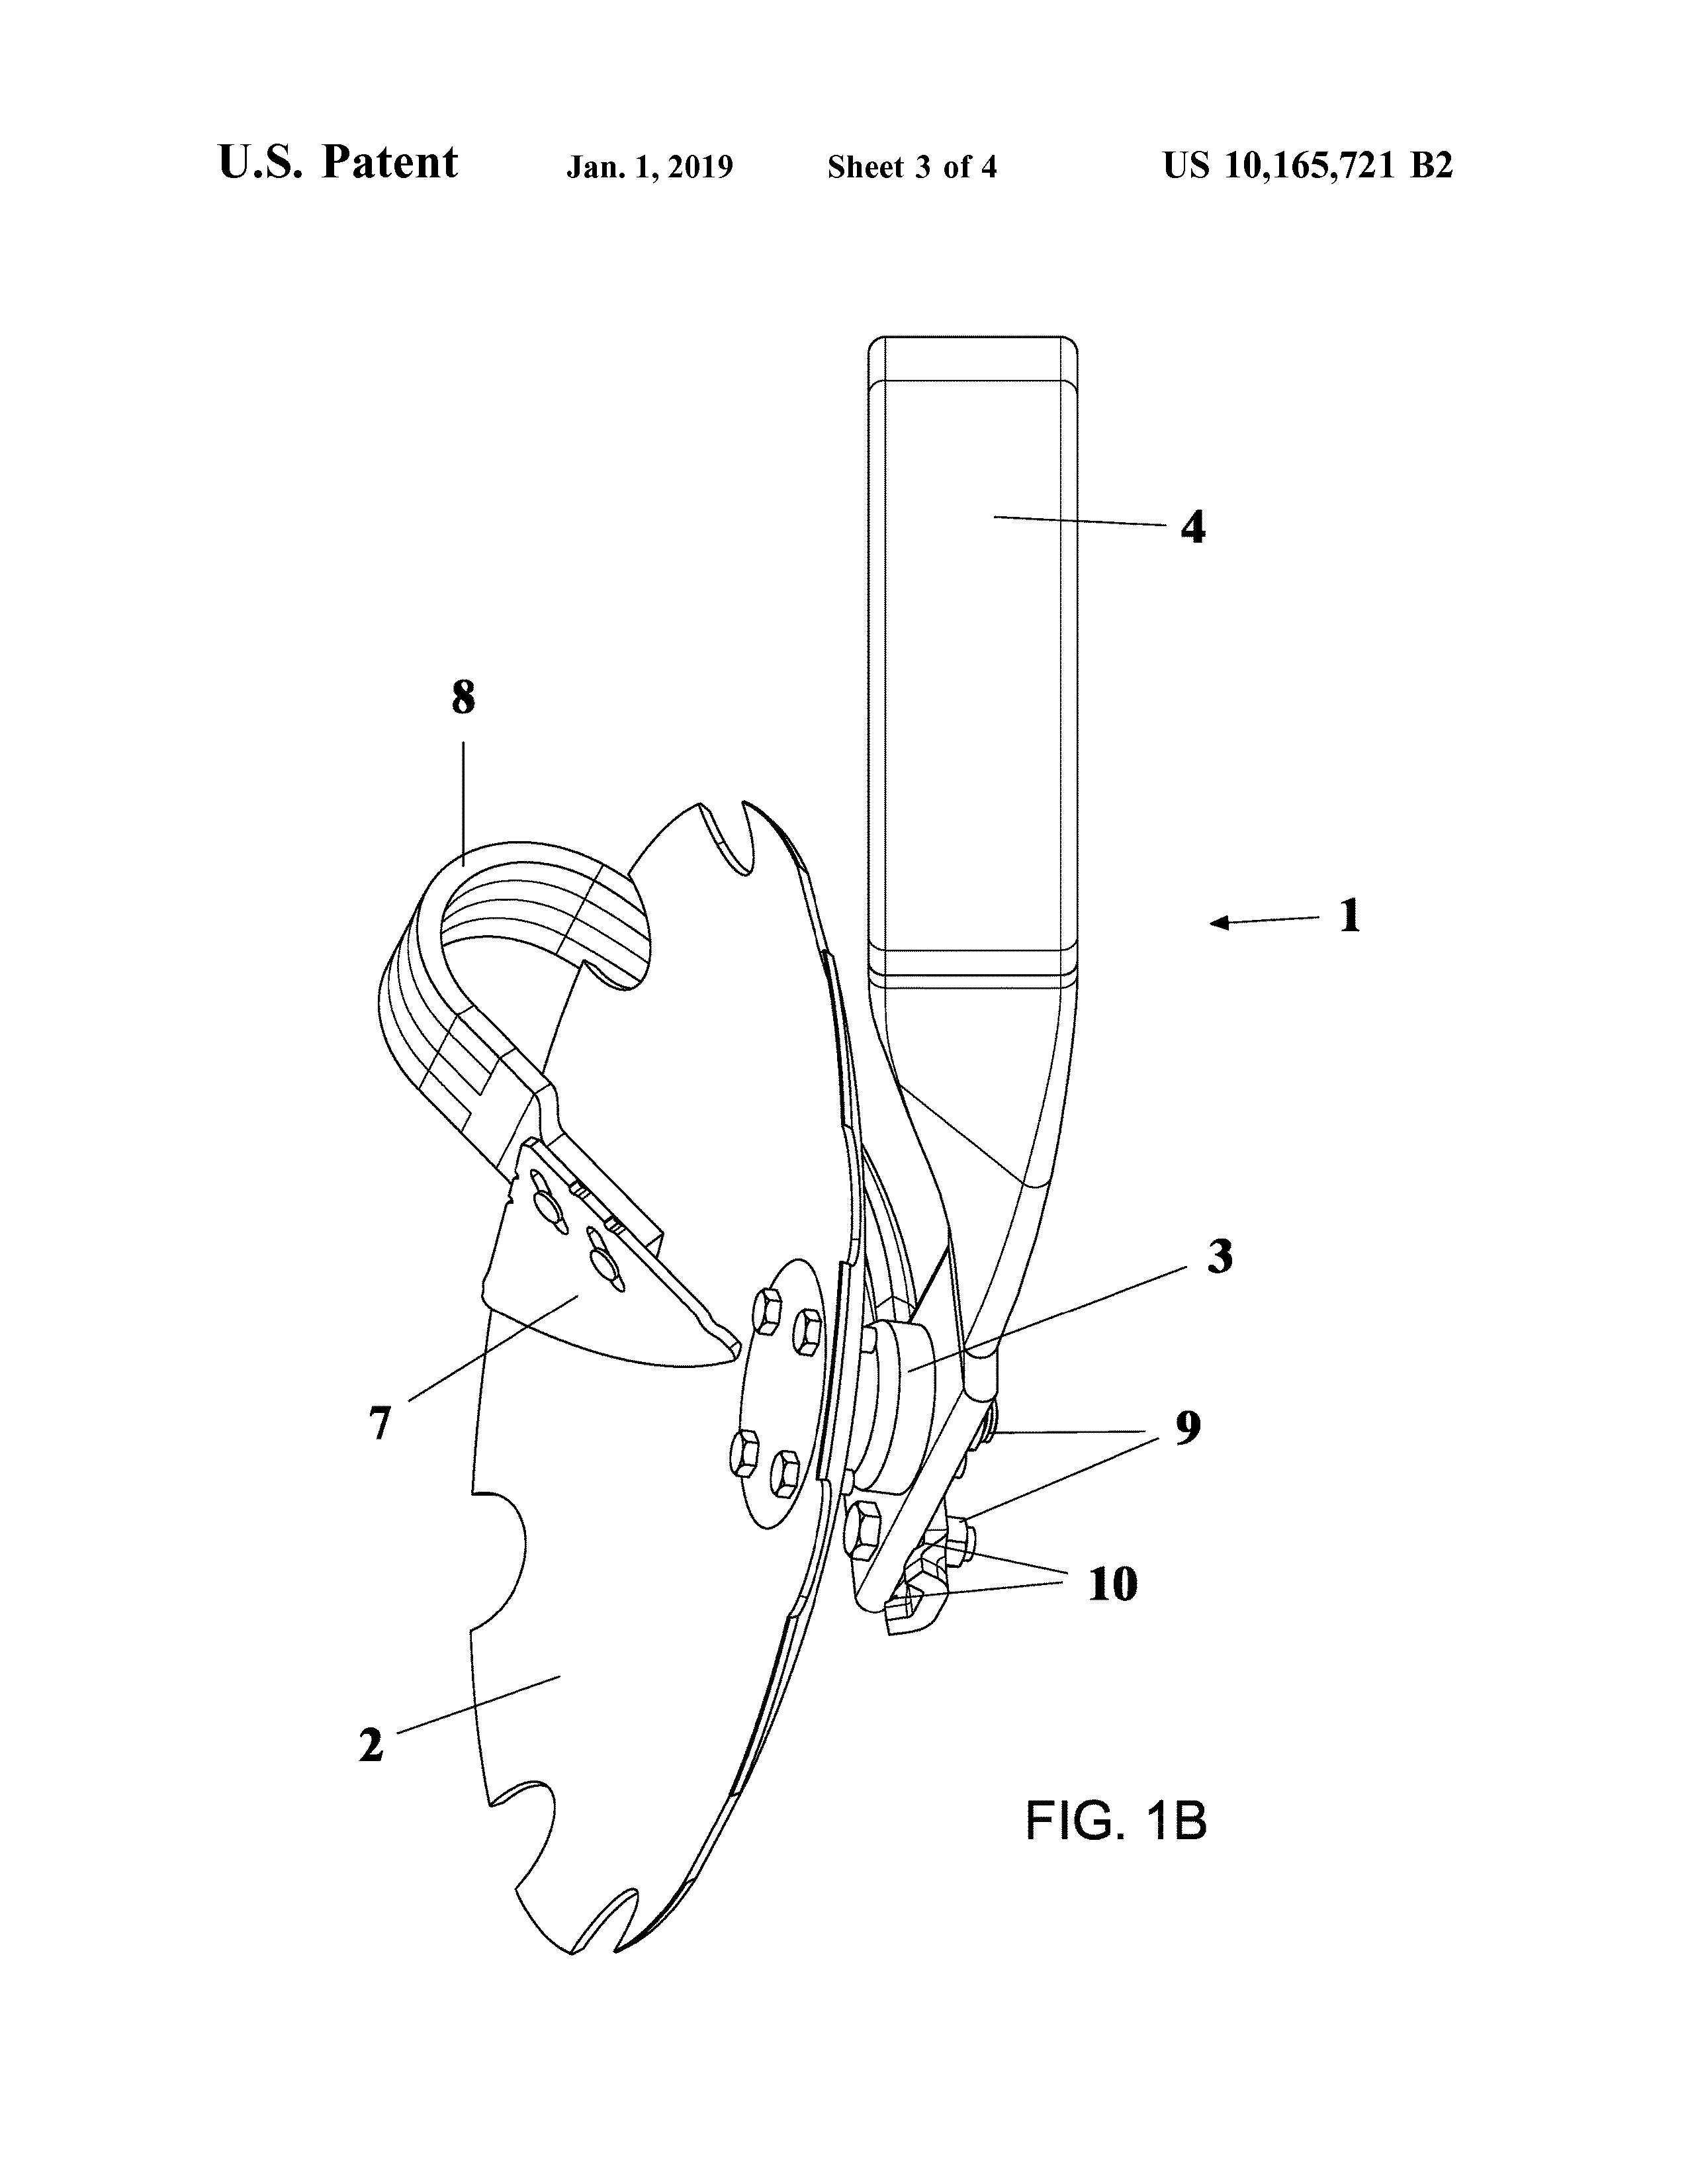patent image: (302, 279, 1427, 2011)
